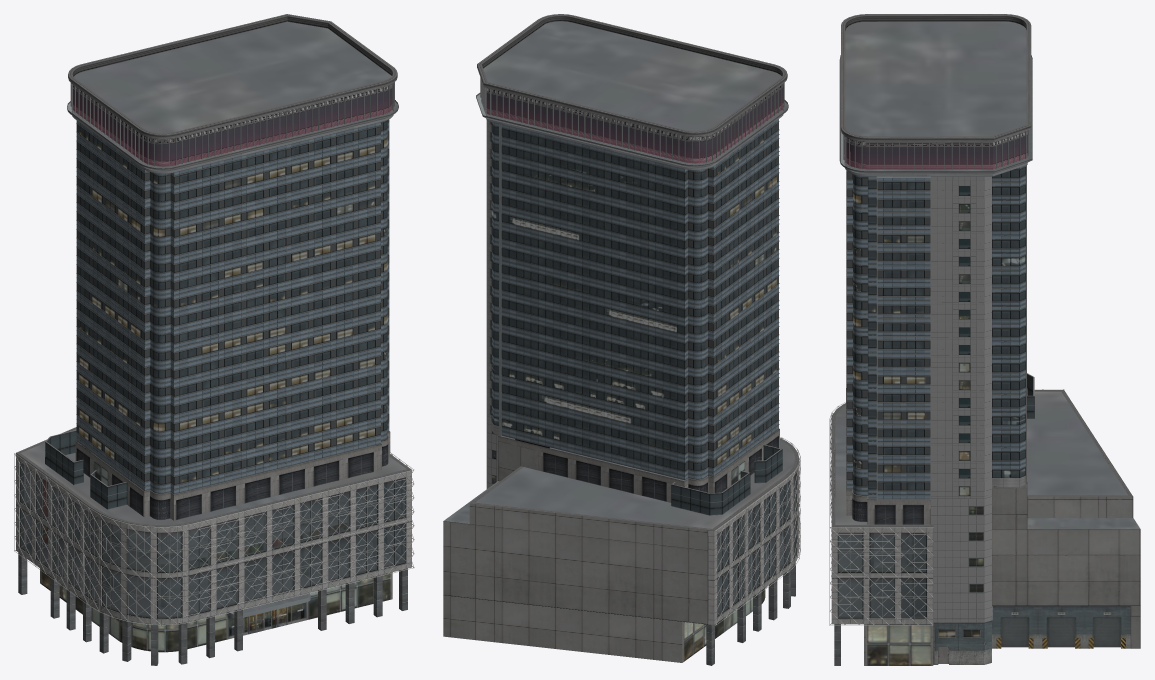
File: office_tower.glb
3 views of the same model, side by side, from view 1: azimuth 30°, elevation 25°; view 2: azimuth 150°, elevation 25°; view 3: azimuth 270°, elevation 25° (orthographic). The views are drawn at different scales.
Visible parts, largest first — view 1: Object_12, Object_10, Object_8, Object_14, Object_6, Object_18, Object_16; view 2: Object_12, Object_6, Object_10, Object_18, Object_8, Object_16, Object_14; view 3: Object_12, Object_6, Object_10, Object_14, Object_18, Object_8.
Boxes of the visible parts, left/top/right/bottom form: Object_12: left=16, top=14, right=411, bottom=665; Object_10: left=20, top=462, right=405, bottom=618; Object_8: left=14, top=452, right=414, bottom=625; Object_14: left=24, top=468, right=398, bottom=616; Object_6: left=40, top=431, right=392, bottom=599; Object_18: left=41, top=132, right=389, bottom=634; Object_16: left=20, top=464, right=404, bottom=617; Object_12: left=444, top=14, right=798, bottom=665; Object_6: left=443, top=429, right=779, bottom=662; Object_10: left=717, top=470, right=797, bottom=615; Object_18: left=491, top=139, right=776, bottom=659; Object_8: left=715, top=437, right=800, bottom=625; Object_16: left=717, top=476, right=797, bottom=615; Object_14: left=515, top=439, right=783, bottom=611; Object_12: left=831, top=14, right=1140, bottom=665; Object_6: left=846, top=388, right=1140, bottom=665; Object_10: left=838, top=533, right=926, bottom=618; Object_14: left=838, top=533, right=925, bottom=616; Object_18: left=853, top=193, right=1025, bottom=664; Object_8: left=829, top=389, right=1064, bottom=625.
Bounding box in the file's own units: 59.28 × 106 × 56.44.
7 materials, 6 textured.
